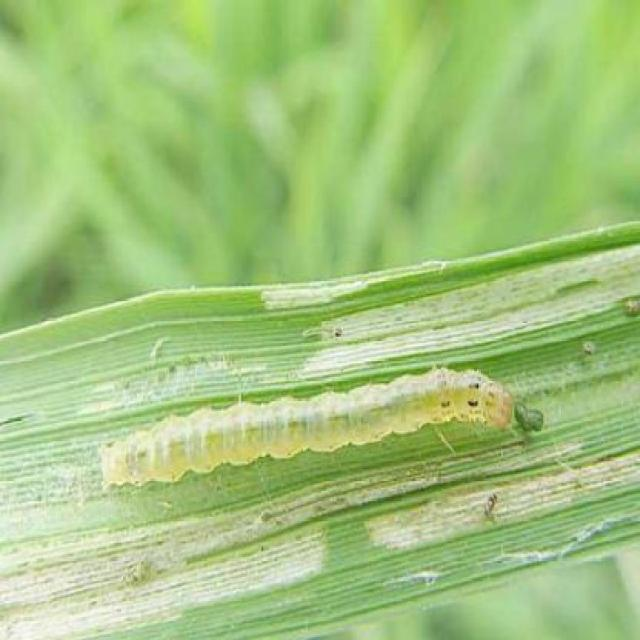leaf-folder: (86, 363, 548, 505)
